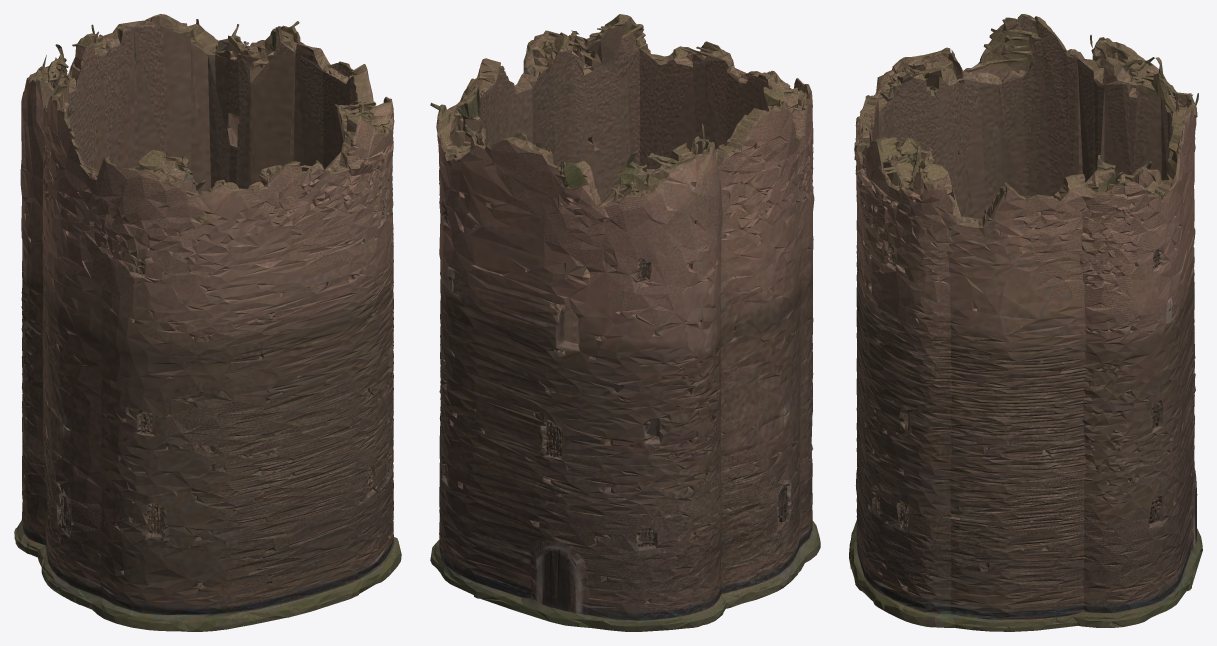
Rendered from tower_cow_tower_norwich_a.meshy.reduced.glb.
3 views of the same model, side by side, from view 1: azimuth 30°, elevation 25°; view 2: azimuth 150°, elevation 25°; view 3: azimuth 270°, elevation 25° (orthographic). The views are drawn at different scales.
Bounding box in the file's own units: 1.28 × 1.9 × 1.29.
1 material, 1 textured.
